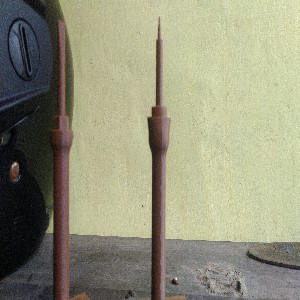obeng: (49, 20, 74, 300)
solder: (147, 15, 172, 300)
